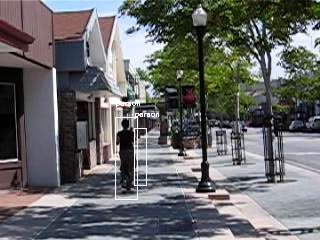person: (115, 121, 138, 195), (114, 121, 137, 195), (116, 121, 139, 195), (115, 120, 138, 194), (115, 122, 138, 196)
target_negative: (220, 78, 288, 194), (249, 84, 314, 142), (241, 205, 283, 230), (306, 178, 320, 237), (82, 26, 91, 103), (292, 103, 302, 106)
